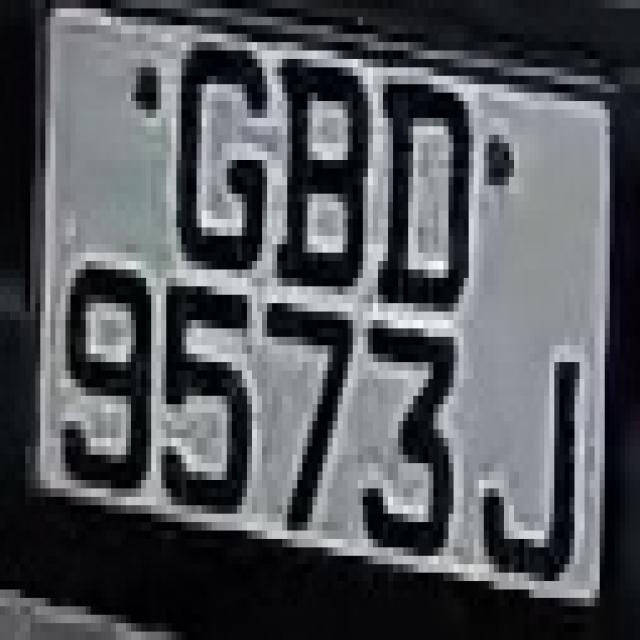3: (338, 278, 478, 564)
5: (156, 261, 257, 531)
7: (252, 252, 358, 556)
9: (60, 228, 162, 506)
B: (272, 34, 363, 312)
D: (373, 76, 484, 320)
G: (166, 17, 277, 303)
J: (468, 312, 590, 581)
